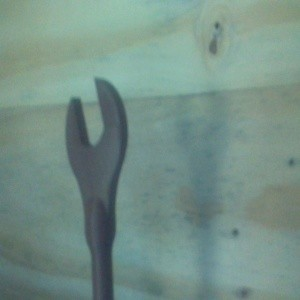spanner: (64, 77, 129, 300)
